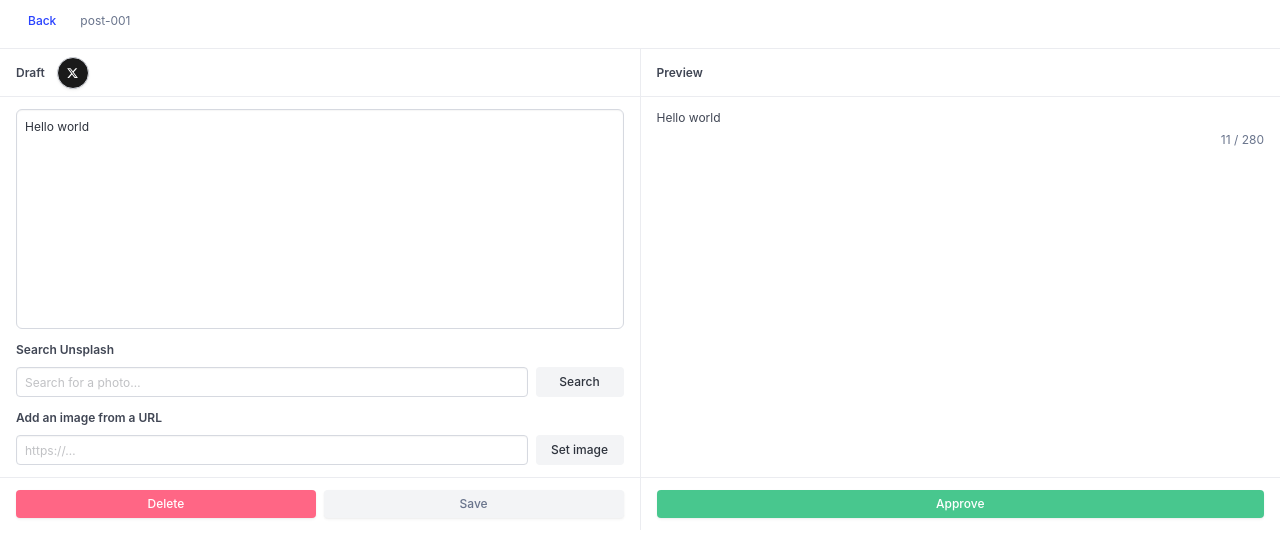
Test case: EditPostView — Save › Approve is enabled after successful Save
Replace the text in the text box named "post content" with "changed" at (320, 219), box [16, 109, 624, 329]
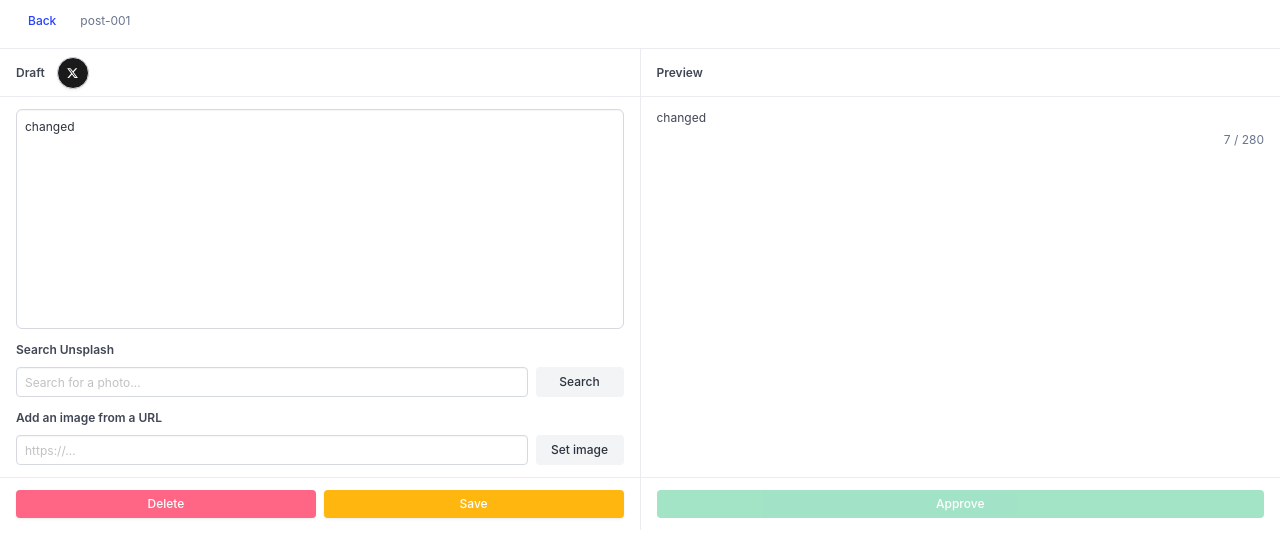
Click the button "Save" at (474, 504), box [324, 490, 624, 518]
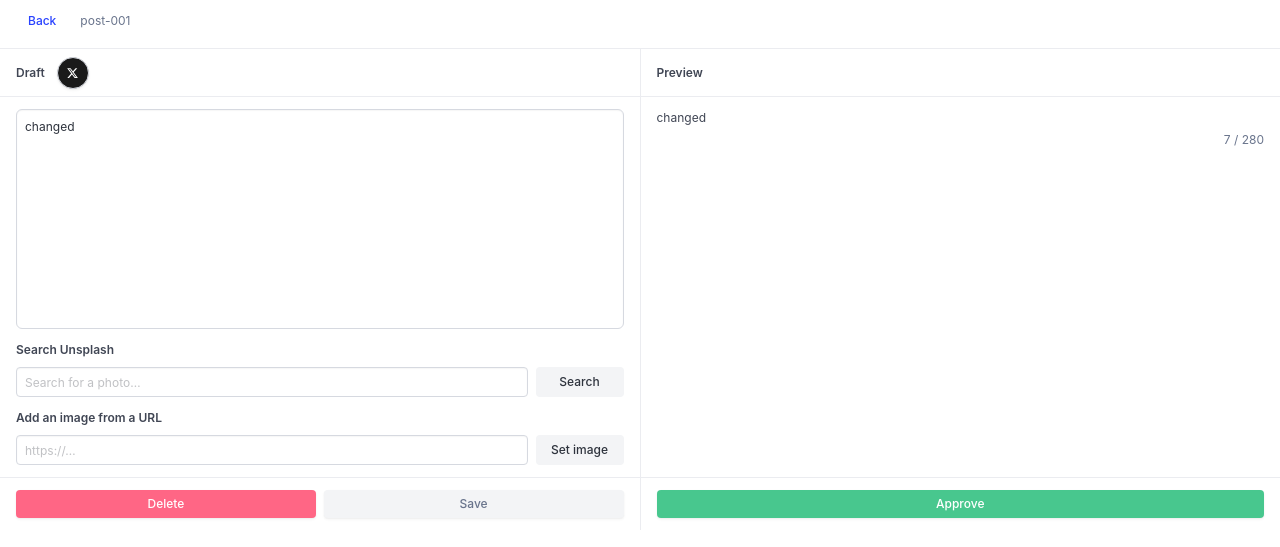
Now the button "Approve" is enabled, box [656, 490, 1264, 518]
